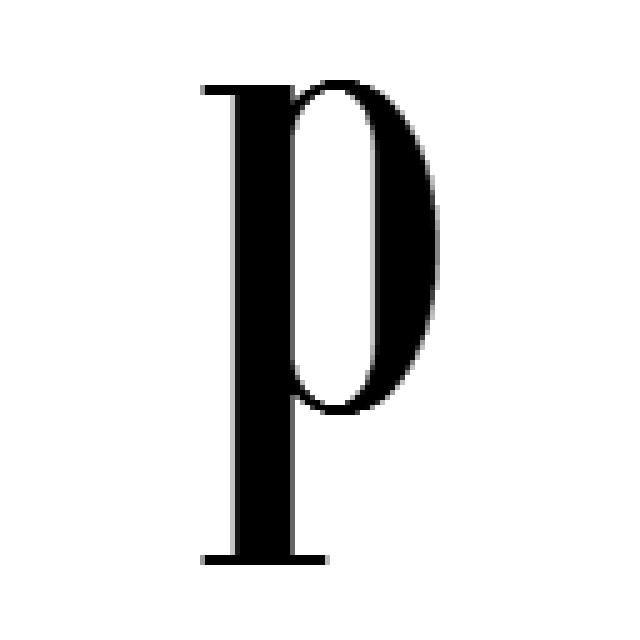P: (200, 80, 440, 570)
